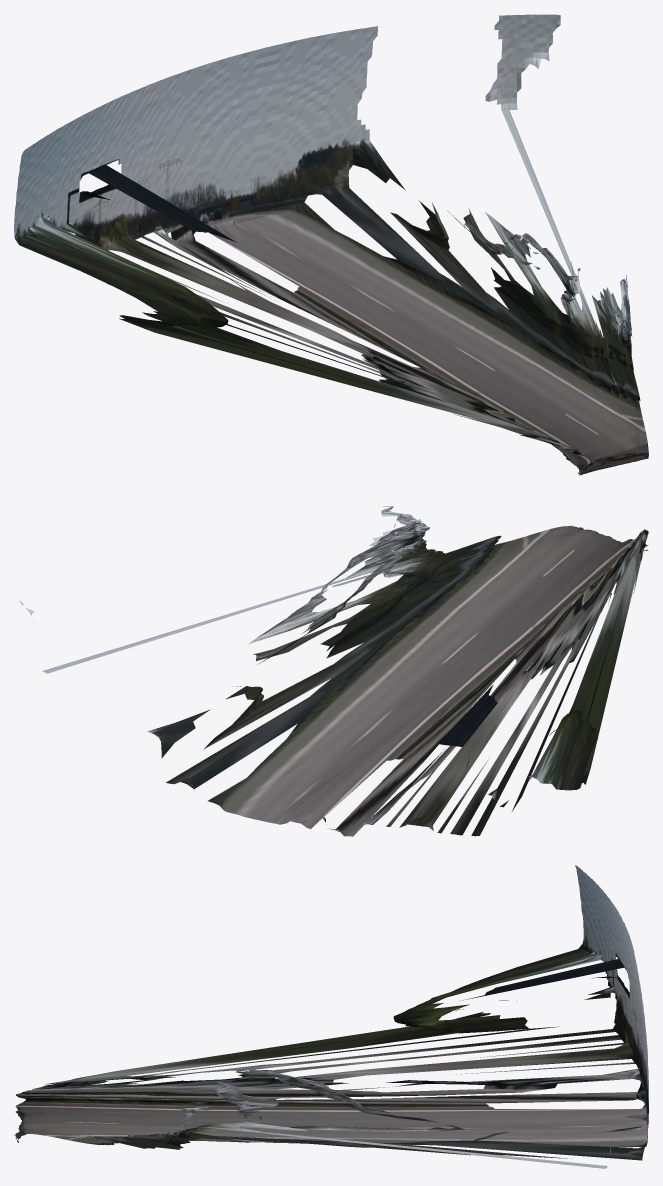
The picture shows the model from 3 angles, top to bottom: view 1: azimuth 30°, elevation 25°; view 2: azimuth 150°, elevation 25°; view 3: azimuth 270°, elevation 25°; orthographic projection. The views are drawn at different scales.
Visible parts, largest first — view 1: defaultobject; view 2: defaultobject; view 3: defaultobject.
Boxes of the visible parts, bbox=[...] form: defaultobject: bbox=[14, 14, 648, 475]; defaultobject: bbox=[19, 506, 648, 836]; defaultobject: bbox=[14, 865, 648, 1168].
Bounding box in the file's own units: 39.55 × 12.1 × 44.35.
1 material, 1 textured.
